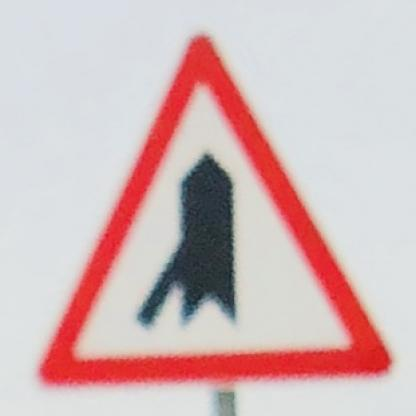Cross Roads: (33, 29, 395, 391)
